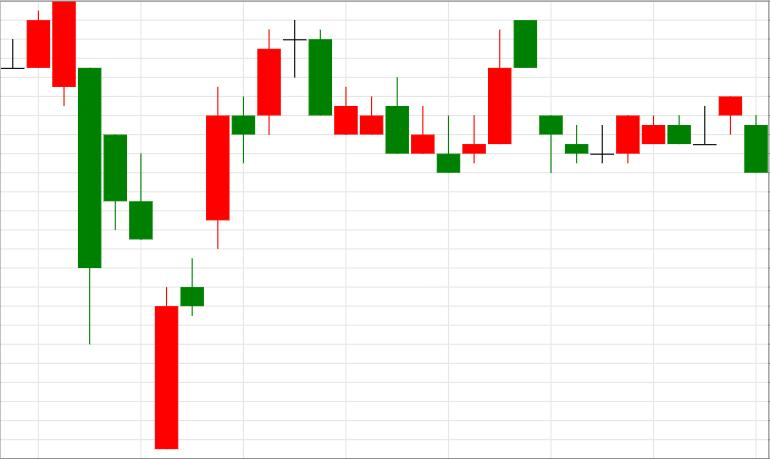evening_star_fall: (156, 21, 331, 449)
